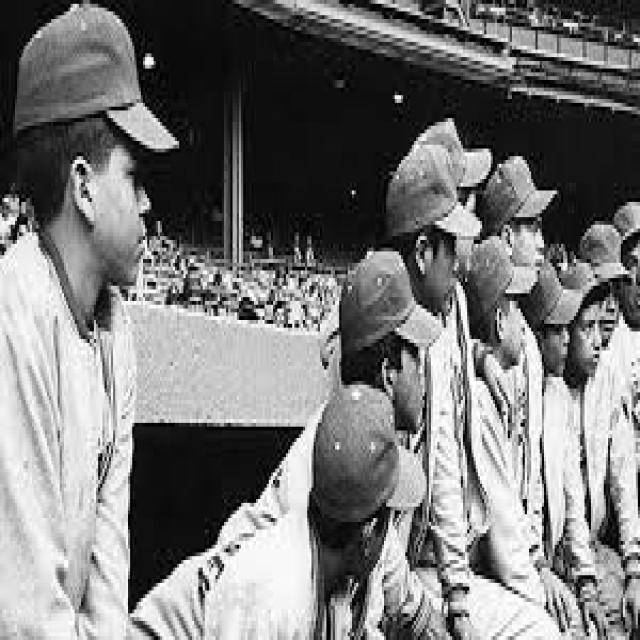cap: (0, 0, 201, 179), (292, 374, 433, 514), (331, 240, 452, 354), (378, 141, 482, 255), (459, 232, 544, 308), (431, 106, 493, 190), (486, 152, 557, 225), (578, 217, 632, 286), (527, 259, 582, 324), (552, 251, 616, 305), (612, 186, 640, 252)
